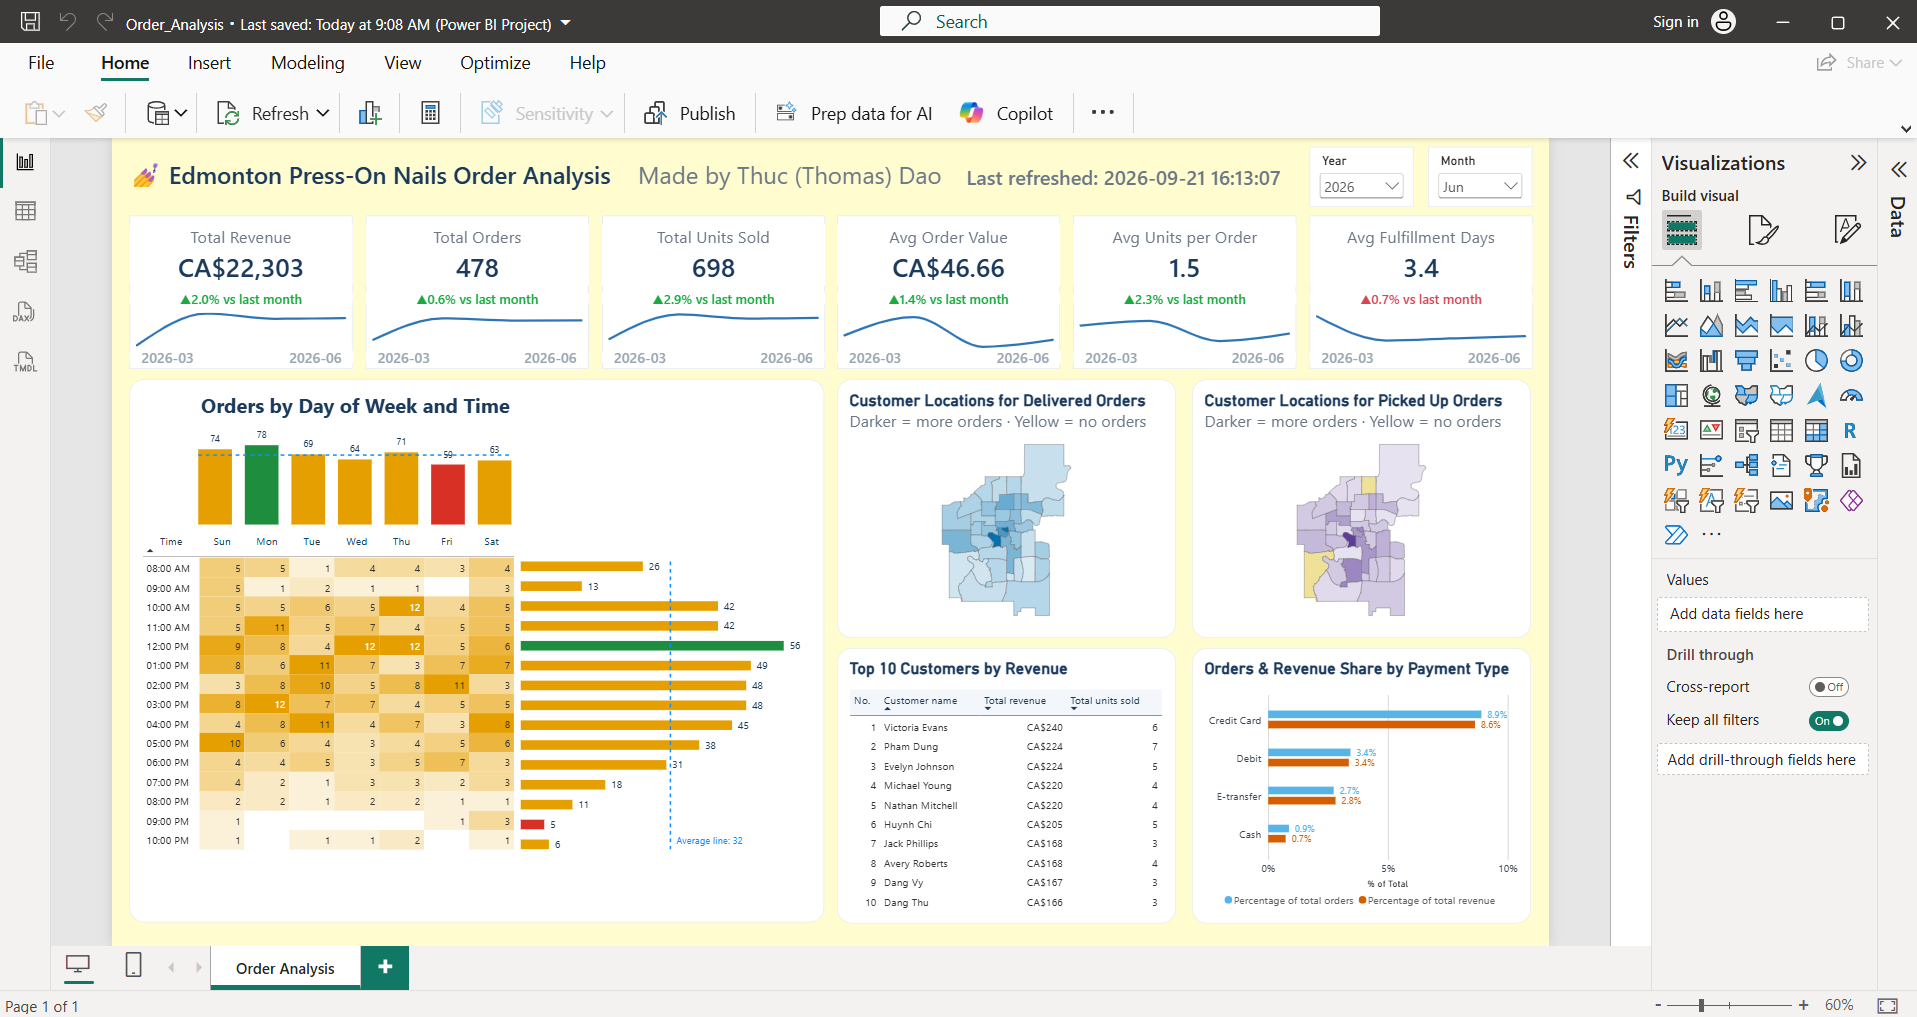

Layout of this report page (visuals, bound fields, positions):
{"tool":"powerbi","page":{"name":"Order Analysis","canvas":[1920,1080],"ordinal":0},"visuals":[{"type":"shape","box":[1599,104,298,205],"z":0},{"type":"shape","box":[969,104,298,205],"z":1000},{"type":"shape","box":[24,104,298,205],"z":2000},{"type":"shape","box":[339,104,298,205],"z":3000},{"type":"shape","box":[1284,104,298,205],"z":4000},{"type":"shape","box":[654,104,298,205],"z":5000},{"type":"cardVisual","fields":{"Data":["Orders.Total Revenue"]},"box":[24,110,298,92],"z":6000},{"type":"textbox","box":[24,24,660,56],"z":7000},{"type":"slicer","fields":{"Values":["Calendar.Year"]},"box":[1599.4,12.2,139.5,80.2],"z":8000},{"type":"slicer","fields":{"Values":["Calendar.MonthName"]},"box":[1758.1,12.2,139.5,80.2],"z":9000},{"type":"cardVisual","fields":{"Data":["Orders.Total Revenue MoM Label"]},"box":[24,202,298,24],"z":10000},{"type":"cardVisual","fields":{"Data":["Orders.Total Orders"]},"box":[339,110,298,92],"z":11000},{"type":"cardVisual","fields":{"Data":["RefreshInfo.Last Refreshed Text"]},"box":[1125,24,470,56],"z":12000},{"type":"cardVisual","fields":{"Data":["Orders.Total Orders MoM Label"]},"box":[339,202,298,24],"z":13000},{"type":"textbox","box":[695,24,430,56],"z":14000},{"type":"cardVisual","fields":{"Data":["Orders.Total Units Sold"]},"box":[654,110,298,92],"z":15000},{"type":"cardVisual","fields":{"Data":["Orders.Total Units Sold MoM Label"]},"box":[654,202,298,24],"z":16000},{"type":"cardVisual","fields":{"Data":["Orders.Avg Order Value"]},"box":[969,110,298,92],"z":17000},{"type":"cardVisual","fields":{"Data":["Orders.Avg Order Value MoM Label"]},"box":[969,202,298,24],"z":18000},{"type":"cardVisual","fields":{"Data":["Orders.Avg Units per Order"]},"box":[1284,110,298,92],"z":19000},{"type":"cardVisual","fields":{"Data":["Orders.Avg Units per Order MoM Label"]},"box":[1284,202,298,24],"z":20000},{"type":"shape","box":[23.5,322.1,928.4,725.7],"z":21000},{"type":"textbox","box":[100,338.4,450,40],"z":22000},{"type":"clusteredColumnChart","fields":{"Category":["Orders.Order_DayName"],"Y":["Orders.Total Orders"]},"box":[116,377,420,140],"z":23000},{"type":"clusteredBarChart","fields":{"Category":["Orders.Order_HourLabel"],"Y":["Orders.Total Orders"]},"box":[546.5,557.4,376.4,392.7],"z":24000},{"type":"tableEx","fields":{"Values":["Orders.Order_HourLabel","Orders.Orders Sun","Orders.Orders Mon","Orders.Orders Tue","Orders.Orders Wed","Orders.Orders Thu","Orders.Orders Fri","Orders.Orders Sat"]},"box":[40,525,518,507],"z":25000},{"type":"cardVisual","fields":{"Data":["Orders.Avg Fulfillment Days"]},"box":[1599,110,298,92],"z":26000},{"type":"cardVisual","fields":{"Data":["Orders.Avg Fulfillment Days MoM Label"]},"box":[1599,202,298,24],"z":27000},{"type":"shapeMap","title":"Customer Locations for Delivered Orders","fields":{"Category":["Orders.Customer_FSA"],"Value":["Orders.Total Orders"]},"box":[968.2,322.1,453,345.6],"z":28000},{"type":"shapeMap","title":"Customer Locations for Picked Up Orders","fields":{"Category":["Orders.Customer_FSA"],"Value":["Orders.Total Orders"]},"box":[1442.3,322.1,453,345.6],"z":29000},{"type":"tableEx","title":"Top 10 Customers by Revenue","fields":{"Values":["Orders.Customer Revenue Rank","Orders.Customer_Name","Orders.Total Revenue","Orders.Total Units Sold"]},"box":[968.2,680.4,453,368],"z":30000},{"type":"clusteredBarChart","title":"Orders & Revenue Share by Payment Type","fields":{"Category":["Orders.Payment_Type"],"Y":["Orders.Pct of Total Orders","Orders.Pct of Total Revenue"]},"box":[1442.3,680.4,453,368],"z":31000},{"type":"lineChart","fields":{"Category":["TrendMonths.Offset"],"Y":["Orders.Total Orders Trend"]},"box":[339,226,298,55],"z":32000},{"type":"lineChart","fields":{"Category":["TrendMonths.Offset"],"Y":["Orders.Avg Order Value Trend"]},"box":[969,226,298,55],"z":33000},{"type":"lineChart","fields":{"Category":["TrendMonths.Offset"],"Y":["Orders.Avg Fulfillment Days Trend"]},"box":[1599,226,298,55],"z":34000},{"type":"lineChart","fields":{"Category":["TrendMonths.Offset"],"Y":["Orders.Avg Units per Order Trend"]},"box":[1284,226,298,55],"z":35000},{"type":"lineChart","fields":{"Category":["TrendMonths.Offset"],"Y":["Orders.Total Units Sold Trend"]},"box":[654,226,298,55],"z":36000},{"type":"lineChart","fields":{"Category":["TrendMonths.Offset"],"Y":["Orders.Total Revenue Trend"]},"box":[24,226,298,55],"z":37000},{"type":"cardVisual","fields":{"Data":["TrendMonths.Trend Start Label"]},"box":[969,281,149,24],"z":38000},{"type":"cardVisual","fields":{"Data":["TrendMonths.Trend Start Label"]},"box":[24,281,149,24],"z":39000},{"type":"cardVisual","fields":{"Data":["TrendMonths.Trend Start Label"]},"box":[1599,281,149,24],"z":40000},{"type":"cardVisual","fields":{"Data":["TrendMonths.Trend Start Label"]},"box":[1284,281,149,24],"z":41000},{"type":"cardVisual","fields":{"Data":["TrendMonths.Trend Start Label"]},"box":[339,281,149,24],"z":42000},{"type":"cardVisual","fields":{"Data":["TrendMonths.Trend Start Label"]},"box":[654,281,149,24],"z":43000},{"type":"cardVisual","fields":{"Data":["TrendMonths.Trend End Label"]},"box":[1748,281,149,24],"z":44000},{"type":"cardVisual","fields":{"Data":["TrendMonths.Trend End Label"]},"box":[173,281,149,24],"z":45000},{"type":"cardVisual","fields":{"Data":["TrendMonths.Trend End Label"]},"box":[488,281,149,24],"z":46000},{"type":"cardVisual","fields":{"Data":["TrendMonths.Trend End Label"]},"box":[1118,281,149,24],"z":47000},{"type":"cardVisual","fields":{"Data":["TrendMonths.Trend End Label"]},"box":[803,281,149,24],"z":48000},{"type":"cardVisual","fields":{"Data":["TrendMonths.Trend End Label"]},"box":[1433,281,149,24],"z":49000}]}

Visuals, with their boxes on the page's 1920x1080 design canvas (x1, y1, x2, y2). These are canvas units, not pixel positions in the 1917x1017 screenshot, which may show the page scaled, cropped or inside an application window:
shape: 1599/104/1897/309
shape: 969/104/1267/309
shape: 24/104/322/309
shape: 339/104/637/309
shape: 1284/104/1582/309
shape: 654/104/952/309
cardVisual - Orders.Total Revenue: 24/110/322/202
textbox: 24/24/684/80
slicer - Calendar.Year: 1599/12/1739/92
slicer - Calendar.MonthName: 1758/12/1898/92
cardVisual - Orders.Total Revenue MoM Label: 24/202/322/226
cardVisual - Orders.Total Orders: 339/110/637/202
cardVisual - RefreshInfo.Last Refreshed Text: 1125/24/1595/80
cardVisual - Orders.Total Orders MoM Label: 339/202/637/226
textbox: 695/24/1125/80
cardVisual - Orders.Total Units Sold: 654/110/952/202
cardVisual - Orders.Total Units Sold MoM Label: 654/202/952/226
cardVisual - Orders.Avg Order Value: 969/110/1267/202
cardVisual - Orders.Avg Order Value MoM Label: 969/202/1267/226
cardVisual - Orders.Avg Units per Order: 1284/110/1582/202
cardVisual - Orders.Avg Units per Order MoM Label: 1284/202/1582/226
shape: 24/322/952/1048
textbox: 100/338/550/378
clusteredColumnChart - Orders.Order_DayName x Orders.Total Orders: 116/377/536/517
clusteredBarChart - Orders.Order_HourLabel x Orders.Total Orders: 546/557/923/950
tableEx - Orders.Order_HourLabel x Orders.Orders Sun: 40/525/558/1032
cardVisual - Orders.Avg Fulfillment Days: 1599/110/1897/202
cardVisual - Orders.Avg Fulfillment Days MoM Label: 1599/202/1897/226
"Customer Locations for Delivered Orders" shapeMap: 968/322/1421/668
"Customer Locations for Picked Up Orders" shapeMap: 1442/322/1895/668
"Top 10 Customers by Revenue" tableEx: 968/680/1421/1048
"Orders & Revenue Share by Payment Type" clusteredBarChart: 1442/680/1895/1048
lineChart - TrendMonths.Offset x Orders.Total Orders Trend: 339/226/637/281
lineChart - TrendMonths.Offset x Orders.Avg Order Value Trend: 969/226/1267/281
lineChart - TrendMonths.Offset x Orders.Avg Fulfillment Days Trend: 1599/226/1897/281
lineChart - TrendMonths.Offset x Orders.Avg Units per Order Trend: 1284/226/1582/281
lineChart - TrendMonths.Offset x Orders.Total Units Sold Trend: 654/226/952/281
lineChart - TrendMonths.Offset x Orders.Total Revenue Trend: 24/226/322/281
cardVisual - TrendMonths.Trend Start Label: 969/281/1118/305
cardVisual - TrendMonths.Trend Start Label: 24/281/173/305
cardVisual - TrendMonths.Trend Start Label: 1599/281/1748/305
cardVisual - TrendMonths.Trend Start Label: 1284/281/1433/305
cardVisual - TrendMonths.Trend Start Label: 339/281/488/305
cardVisual - TrendMonths.Trend Start Label: 654/281/803/305
cardVisual - TrendMonths.Trend End Label: 1748/281/1897/305
cardVisual - TrendMonths.Trend End Label: 173/281/322/305
cardVisual - TrendMonths.Trend End Label: 488/281/637/305
cardVisual - TrendMonths.Trend End Label: 1118/281/1267/305
cardVisual - TrendMonths.Trend End Label: 803/281/952/305
cardVisual - TrendMonths.Trend End Label: 1433/281/1582/305
